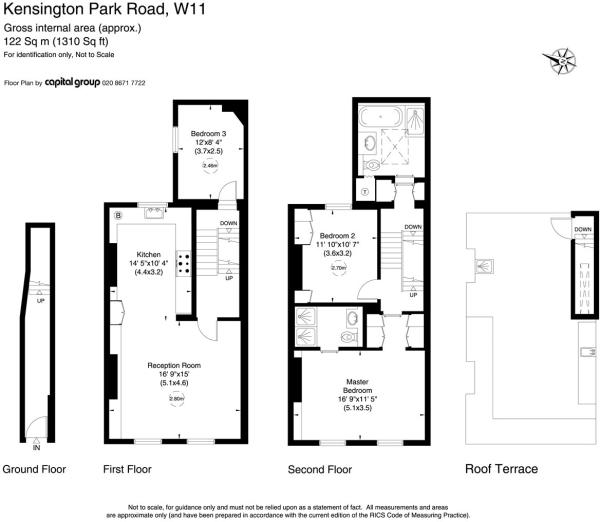GrossArea: (1, 19, 147, 51)
